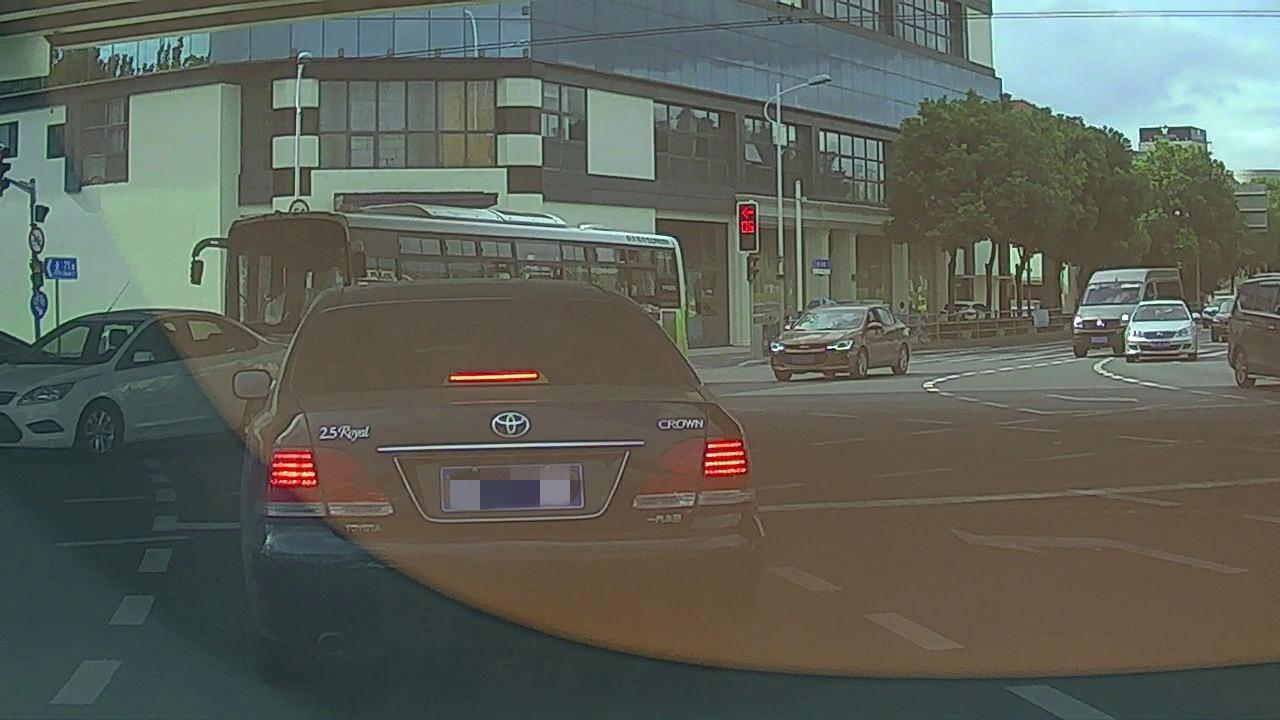traffic_light: (738, 203, 756, 251)
